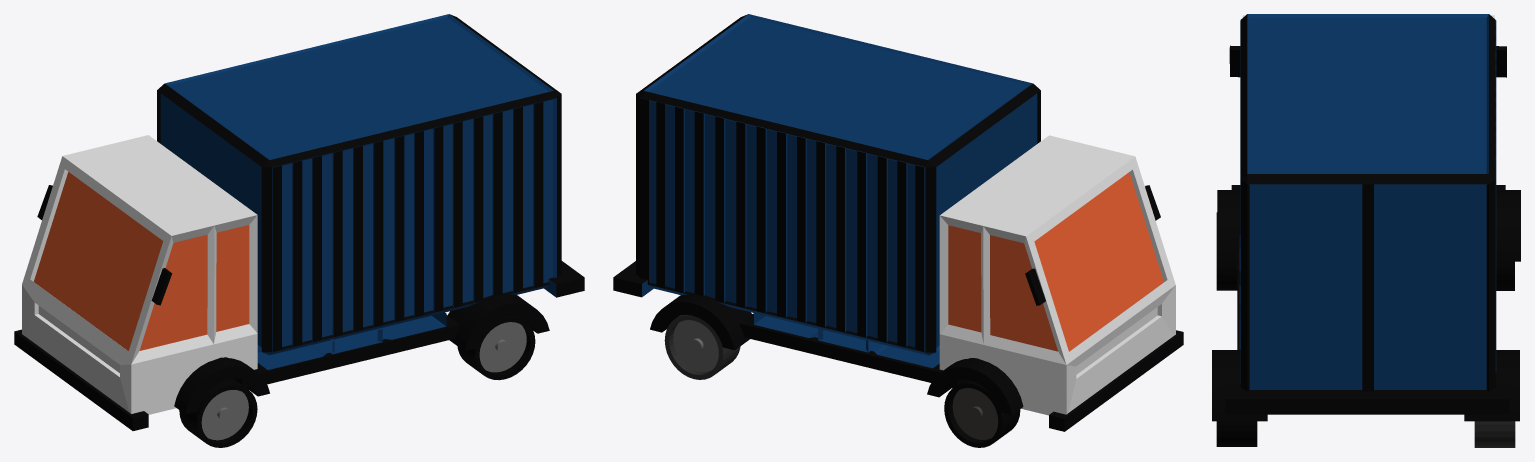
Rendered from truck_Emil.fbx.
3 views of the same model, side by side, from view 1: azimuth 30°, elevation 25°; view 2: azimuth 150°, elevation 25°; view 3: azimuth 270°, elevation 25° (orthographic). The views are drawn at different scales.
Visible parts, largest first — view 1: Cube.003, Cube, Cylinder.003, Cylinder.006, Cube.006, Cylinder.005, Cylinder.002, Cube.001; view 2: Cube.003, Cube, Cylinder, Cube.004, Cylinder.007, Cylinder.004, Cylinder.001, Cube.001; view 3: Cube.003, Cylinder.005, Cylinder.001, Cylinder.002, Cylinder.004, Cylinder.007, Cylinder.006, Cylinder.003, Cylinder, Cube.007, Cube.002, Cube.006.
Boxes of the visible parts, x1,y1,x2,y2 form: Cube.003: (157,14,584,369); Cube: (22,135,257,414); Cylinder.003: (179,379,257,447); Cylinder.006: (457,316,535,380); Cube.006: (234,315,459,388); Cylinder.005: (447,293,549,351); Cylinder.002: (174,357,269,414); Cube.001: (14,329,148,430); Cube.003: (613,14,1040,368); Cube: (939,135,1175,415); Cylinder: (944,379,1020,447); Cube.004: (739,313,963,387); Cylinder.007: (664,314,740,379); Cylinder.004: (650,294,751,350); Cylinder.001: (927,358,1023,414); Cube.001: (1049,330,1183,431); Cube.003: (1225,14,1509,414); Cylinder.005: (1212,350,1267,421); Cylinder.001: (1496,190,1520,261); Cylinder.002: (1217,190,1240,261); Cylinder.004: (1464,350,1519,421); Cylinder.007: (1474,421,1515,447); Cylinder.006: (1216,421,1257,446); Cylinder.003: (1216,212,1237,290); Cylinder: (1496,261,1514,290); Cube.007: (1229,45,1240,77); Cube.002: (1496,46,1506,77); Cube.006: (1237,242,1239,349).
Size of the model in its own units: 340 by 191 by 175.
